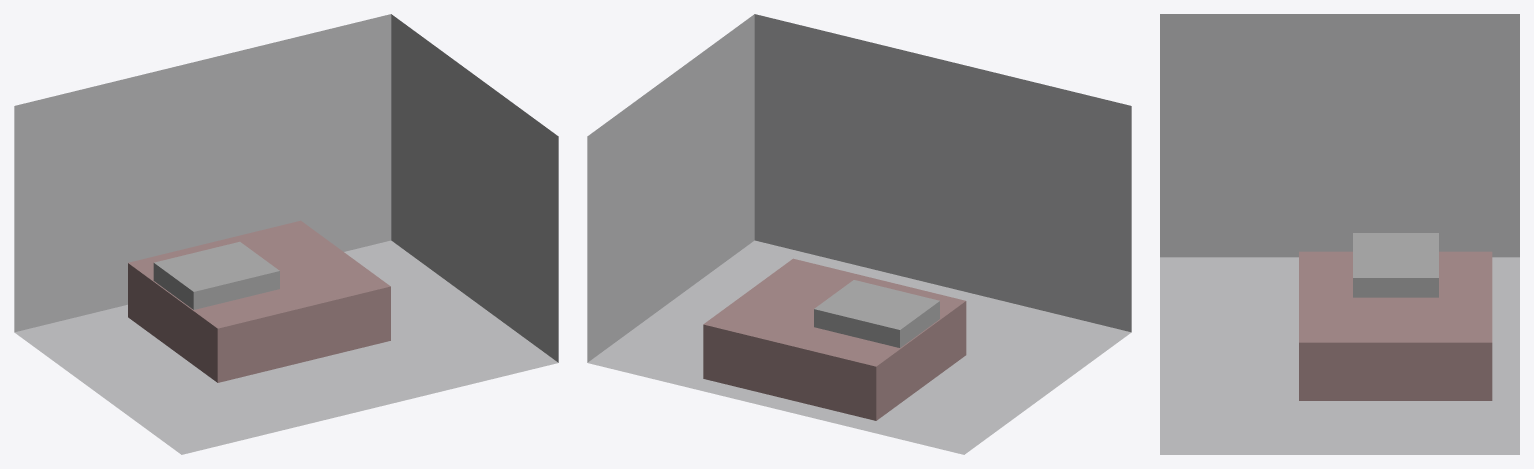
Rendered from optimised_layout.glb.
3 renders of one model, left to right at view 1: azimuth 30°, elevation 25°; view 2: azimuth 150°, elevation 25°; view 3: azimuth 270°, elevation 25°, orthographic. The views are drawn at different scales.
Visible parts, largest first — view 1: room, bed, tables, beds; view 2: room, bed, beds, tables; view 3: room, bed, tables, beds.
Part boxes in pixels (left/top/right/bottom): room: left=14, top=14, right=558, bottom=454; bed: left=128, top=220, right=390, bottom=382; tables: left=172, top=241, right=279, bottom=305; beds: left=153, top=246, right=257, bottom=309; room: left=587, top=14, right=1131, bottom=454; bed: left=703, top=258, right=966, bottom=420; beds: left=831, top=284, right=939, bottom=347; tables: left=814, top=280, right=922, bottom=331; room: left=1160, top=14, right=1519, bottom=454; bed: left=1299, top=251, right=1492, bottom=400; tables: left=1353, top=241, right=1438, bottom=297; beds: left=1353, top=233, right=1438, bottom=257.
Bounding box in the file's own units: 4.36 × 2.5 × 3.35.
